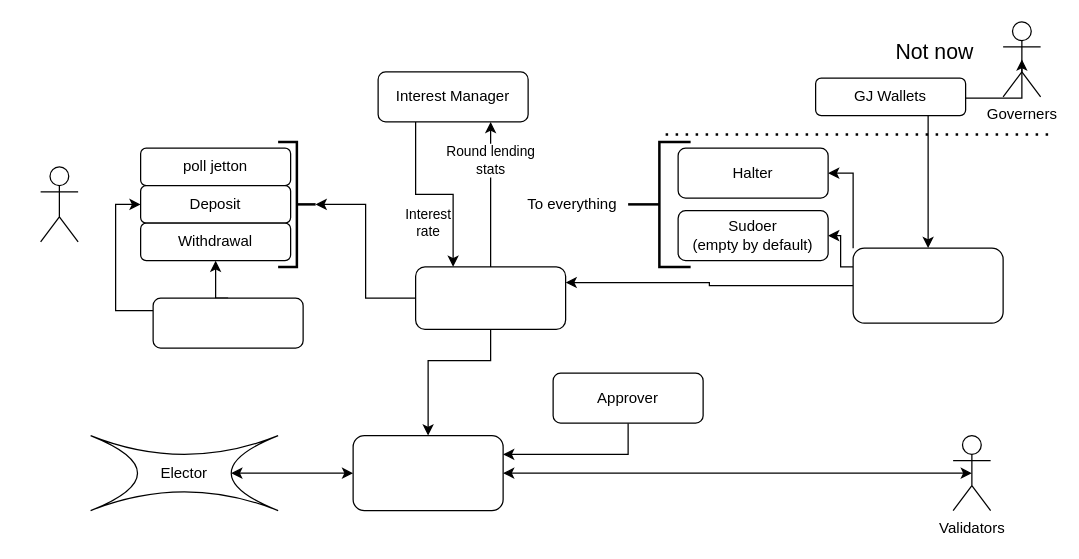
Image size: 1079x559. Some labels were removed from this diagram. Here are the shapes that lost their labels. From the top down, the centre of each, then its label:
(x=58, y=204): Nominators
(x=490, y=297): Pool
(x=927, y=285): Governor
(x=227, y=322): Consigliere
(x=427, y=472): Validator Controllers
